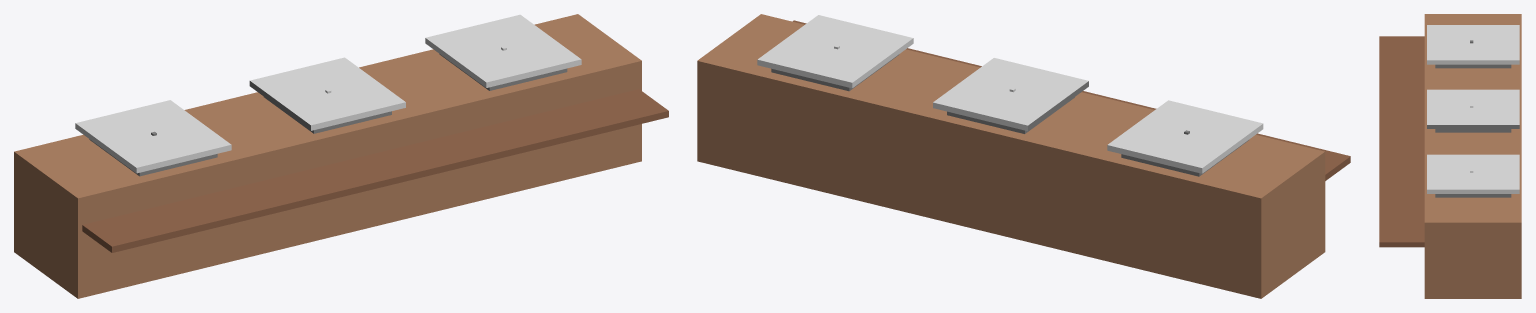
File: Cafeteria serving table.fbx
3 renders of one model, left to right at view 1: azimuth 30°, elevation 25°; view 2: azimuth 150°, elevation 25°; view 3: azimuth 270°, elevation 25°, orthographic. The views are drawn at different scales.
Visible parts, largest first — view 1: Cube, Cube.003, Cube.001; view 2: Cube, Cube.003, Cube.001; view 3: Cube, Cube.003, Cube.001.
Boxes of the visible parts, x1,y1,x2,y2 form: Cube: [14, 14, 641, 298]; Cube.003: [75, 14, 581, 176]; Cube.001: [82, 89, 668, 252]; Cube: [697, 14, 1325, 298]; Cube.003: [757, 15, 1263, 176]; Cube.001: [792, 20, 1350, 180]; Cube: [1424, 14, 1521, 298]; Cube.003: [1427, 25, 1519, 197]; Cube.001: [1379, 36, 1424, 247].
Size of the model in its own units: 1019 by 202 by 293.
